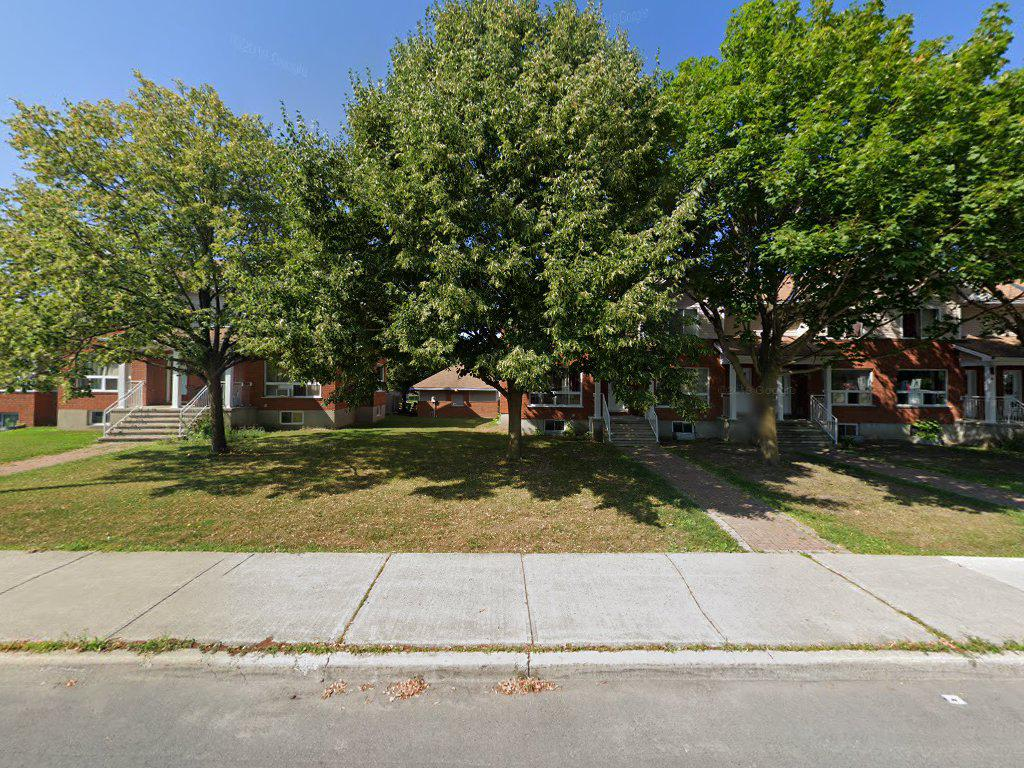trunk: (746, 319, 788, 480), (205, 363, 230, 461), (500, 378, 526, 464)
